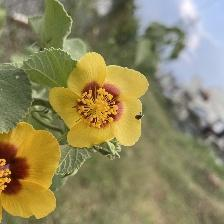indian mallow: (47, 52, 155, 151)
